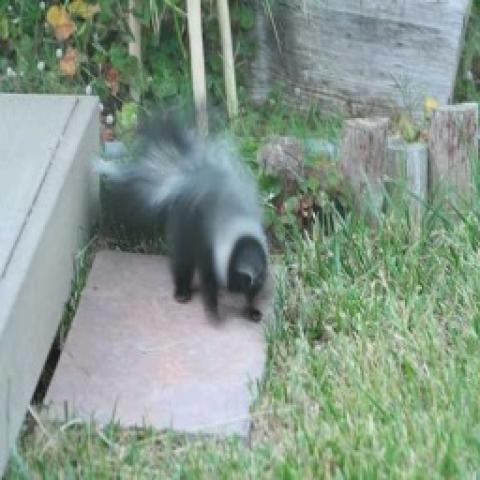small_animal: (94, 109, 272, 324)
